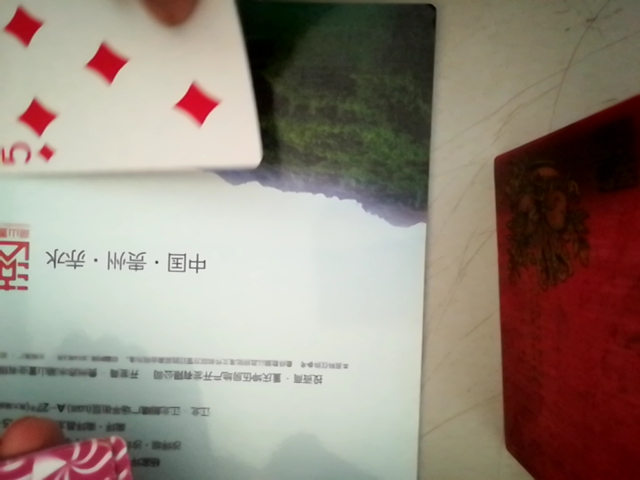fk 5: (0, 0, 272, 178)
